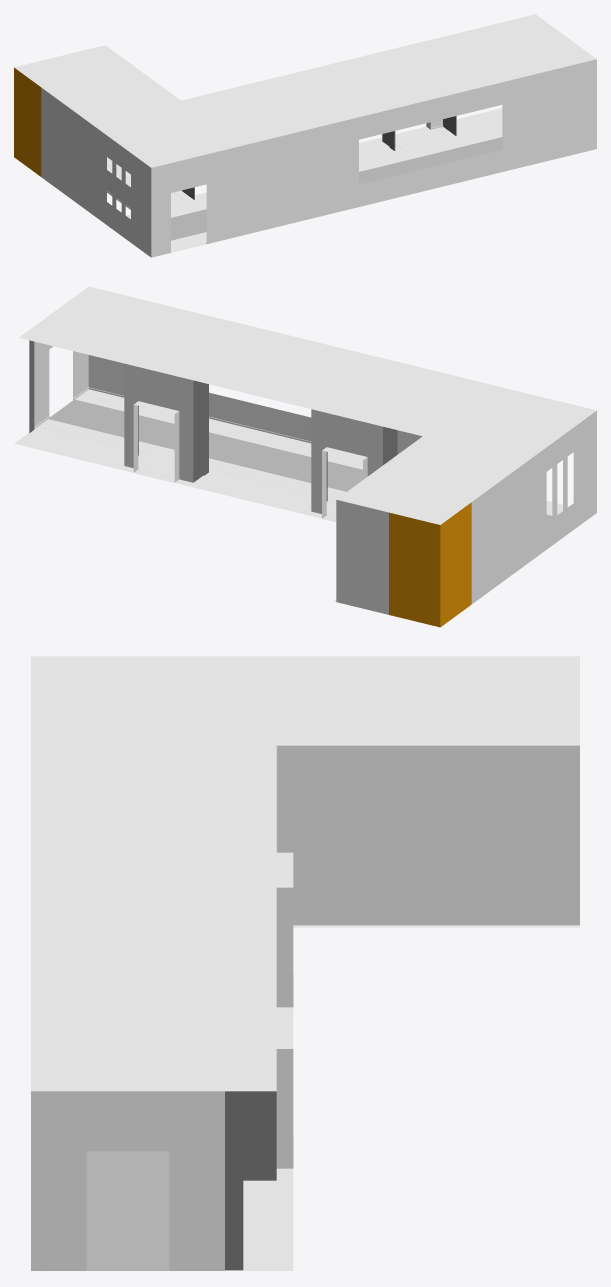
3 views of the same model, one above another, from view 1: azimuth 30°, elevation 25°; view 2: azimuth 150°, elevation 25°; view 3: azimuth 270°, elevation 25° (orthographic). The views are drawn at different scales.
Parts seen in each view (by area): view 1: SM_H_Building_FutureTech_Dormitory_02_InterWall_04; view 2: SM_H_Building_FutureTech_Dormitory_02_InterWall_04; view 3: SM_H_Building_FutureTech_Dormitory_02_InterWall_04.
Part boxes in pixels (<box>): SM_H_Building_FutureTech_Dormitory_02_InterWall_04: <box>14,14,596,257</box>; SM_H_Building_FutureTech_Dormitory_02_InterWall_04: <box>14,286,596,627</box>; SM_H_Building_FutureTech_Dormitory_02_InterWall_04: <box>31,656,579,1271</box>.
Size of the model in its own units: 383 by 720 by 138.
